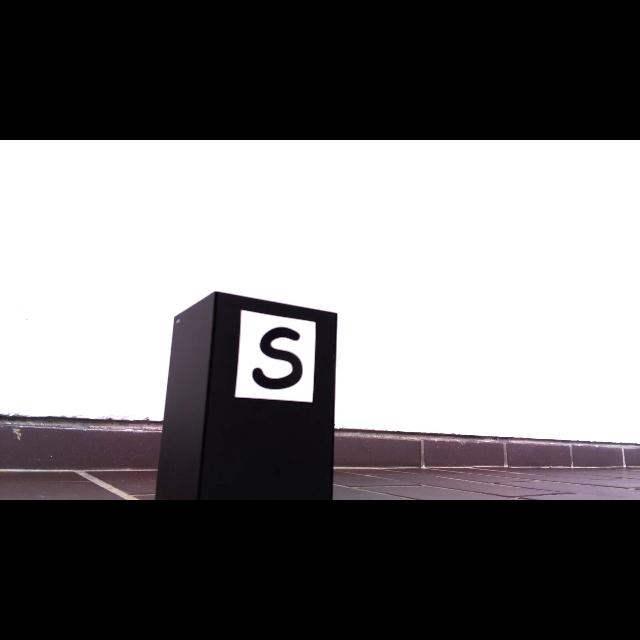S: (252, 327, 303, 390)
